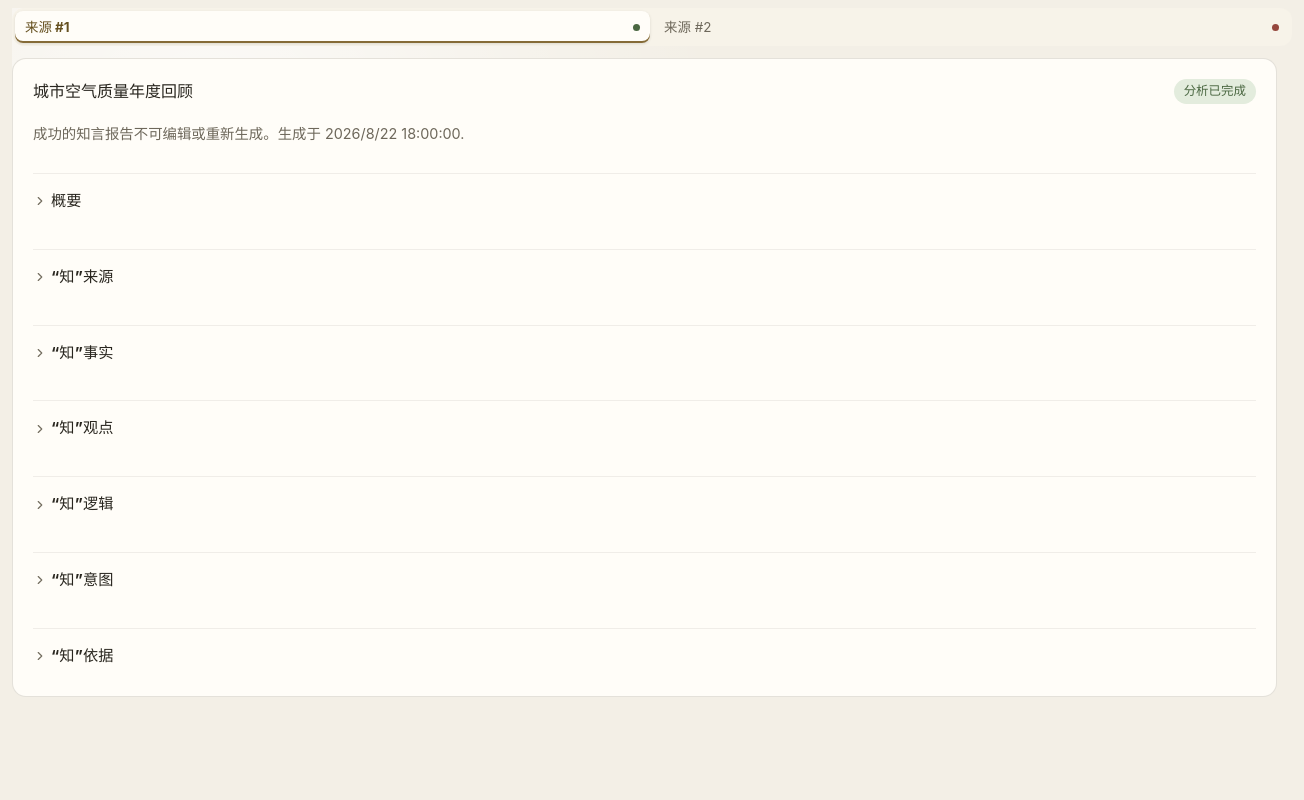
Test case: TaskZhiyanArea › keeps a succeeded report readable while another source has failed
expect the tab "来源 #1" is shown: met, box [15,11,650,43]
Click the tab "来源 #2" at (688, 27), box [654,11,1289,43]
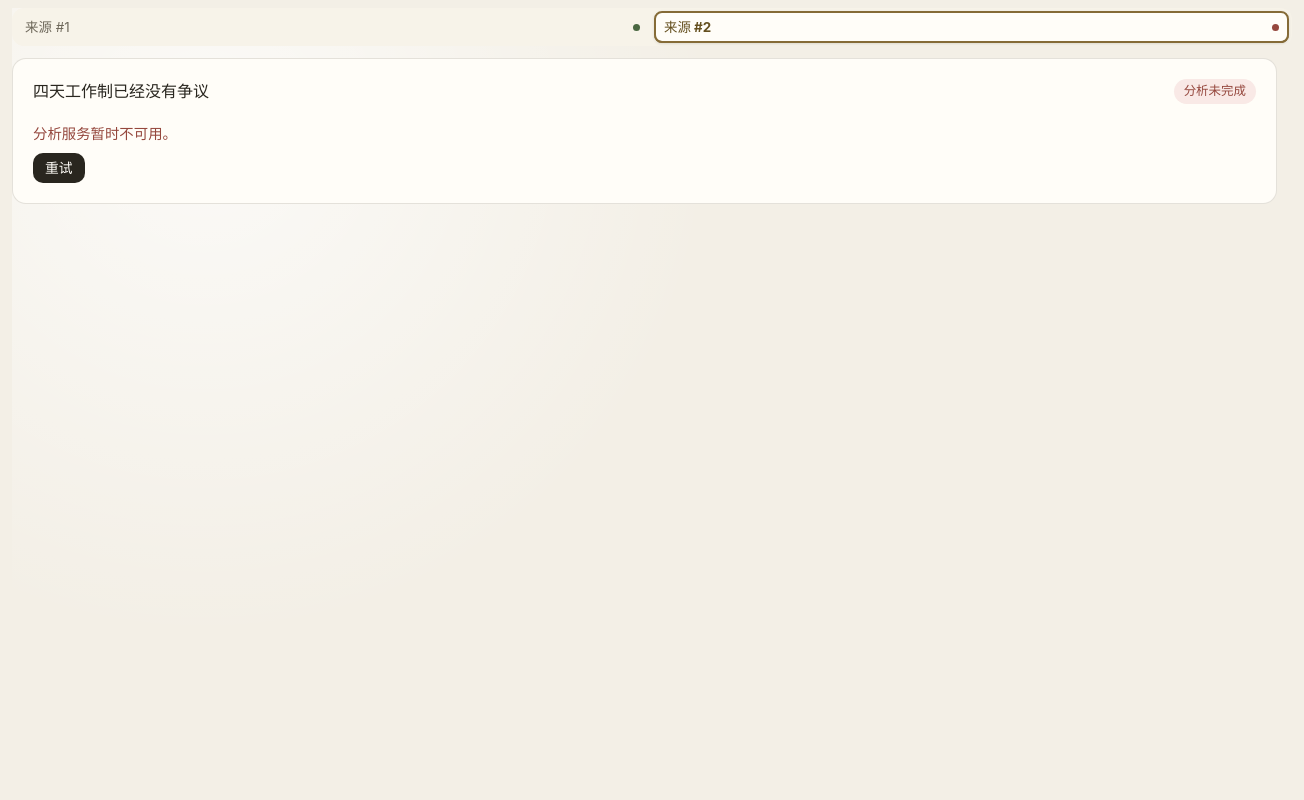
expect the text "分析服务暂时不可用。" is shown: met, box [33,125,177,142]
